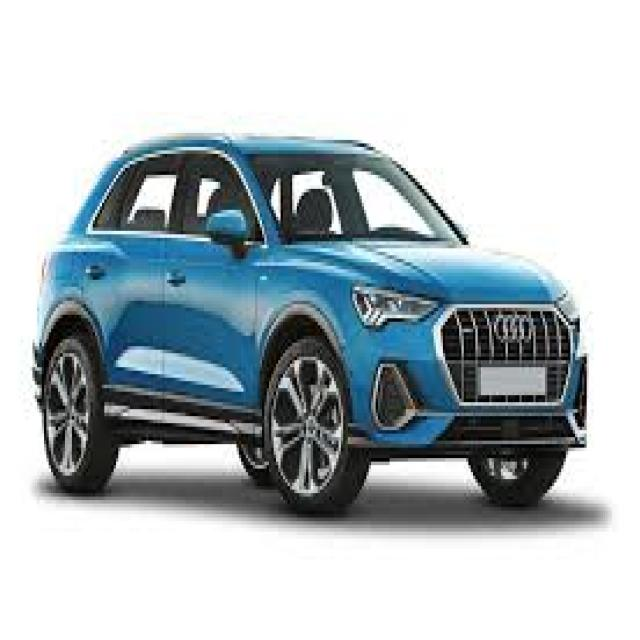Car: (34, 140, 588, 512)
